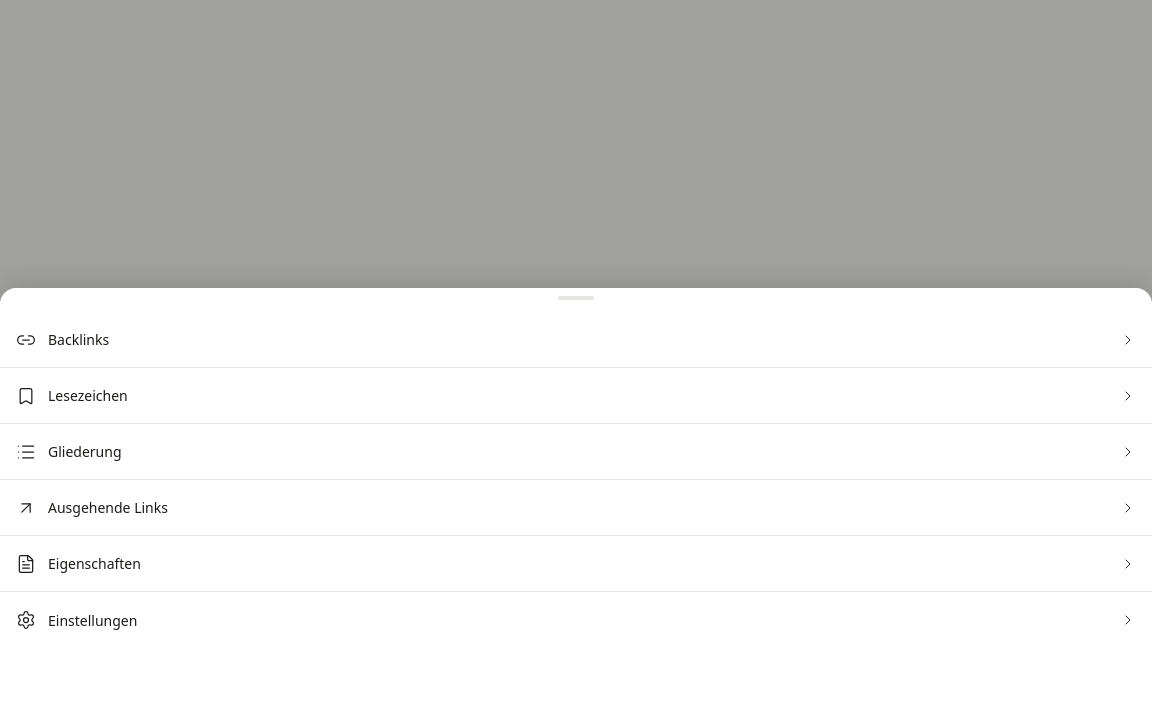
MobileBurgerSheet (#397) › clicking the Backlinks row swaps the menu view for the Backlinks panel
This screenshot has width=1152, height=720.
Step 1. Click the menu item "Backlinks" → (79, 340), box top-left (0, 312), bottom-right (1151, 368)
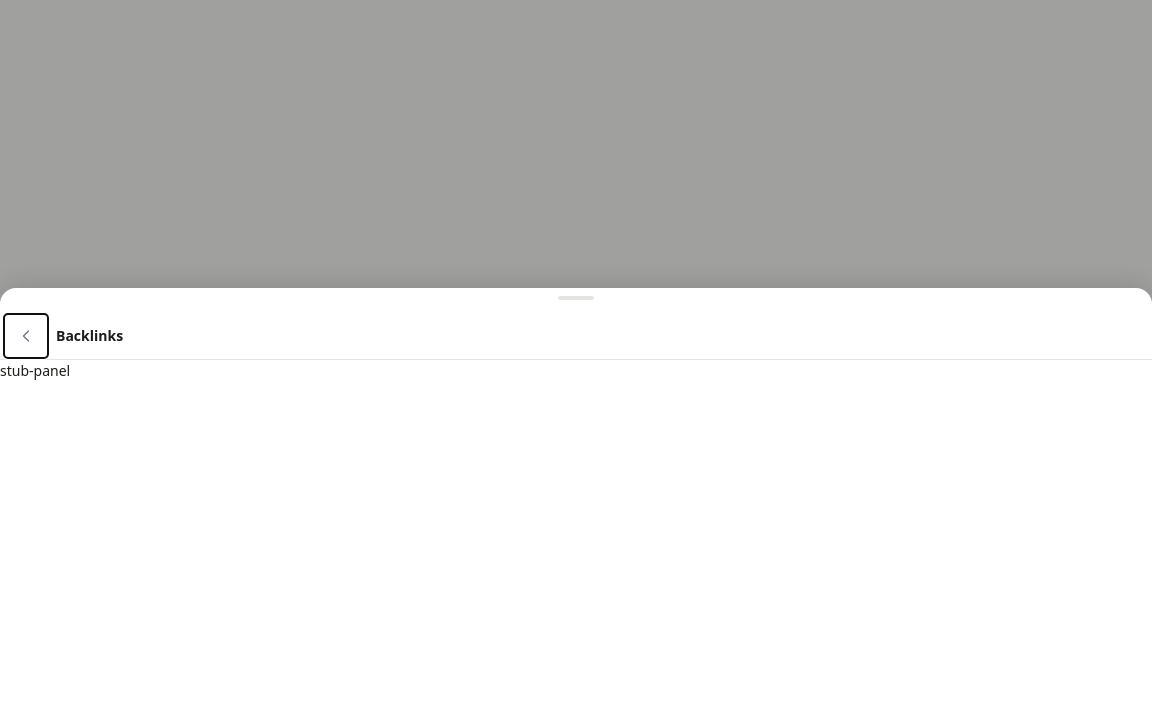
expect the menu is gone: met
expect the text "stub-panel" is shown: met, box top-left (0, 361), bottom-right (70, 380)
